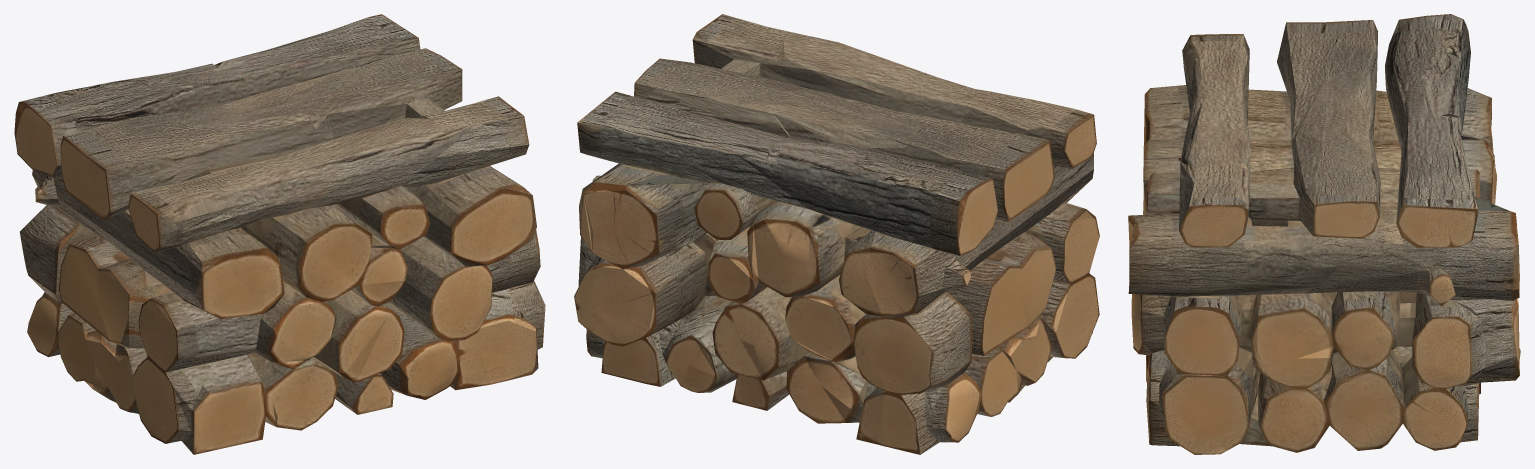
Rendered from woodpile.glb.
The picture shows the model from 3 angles, left to right: view 1: azimuth 30°, elevation 25°; view 2: azimuth 150°, elevation 25°; view 3: azimuth 270°, elevation 25°; orthographic projection.
Bounding box in the file's own units: 1.9 × 1.22 × 1.69.
Materials: 1 (1 with a texture image).
